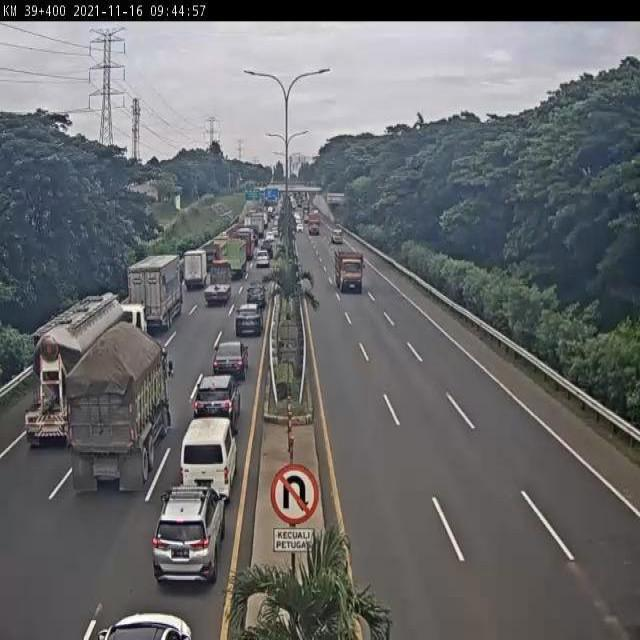car: (151, 488, 224, 581), (194, 375, 240, 433), (210, 345, 247, 383), (233, 308, 260, 341), (246, 283, 264, 308)
truck: (26, 296, 146, 449), (74, 334, 172, 490), (179, 420, 237, 497), (129, 254, 181, 330), (334, 247, 364, 293), (216, 237, 246, 280), (204, 261, 233, 304), (180, 248, 205, 289)
